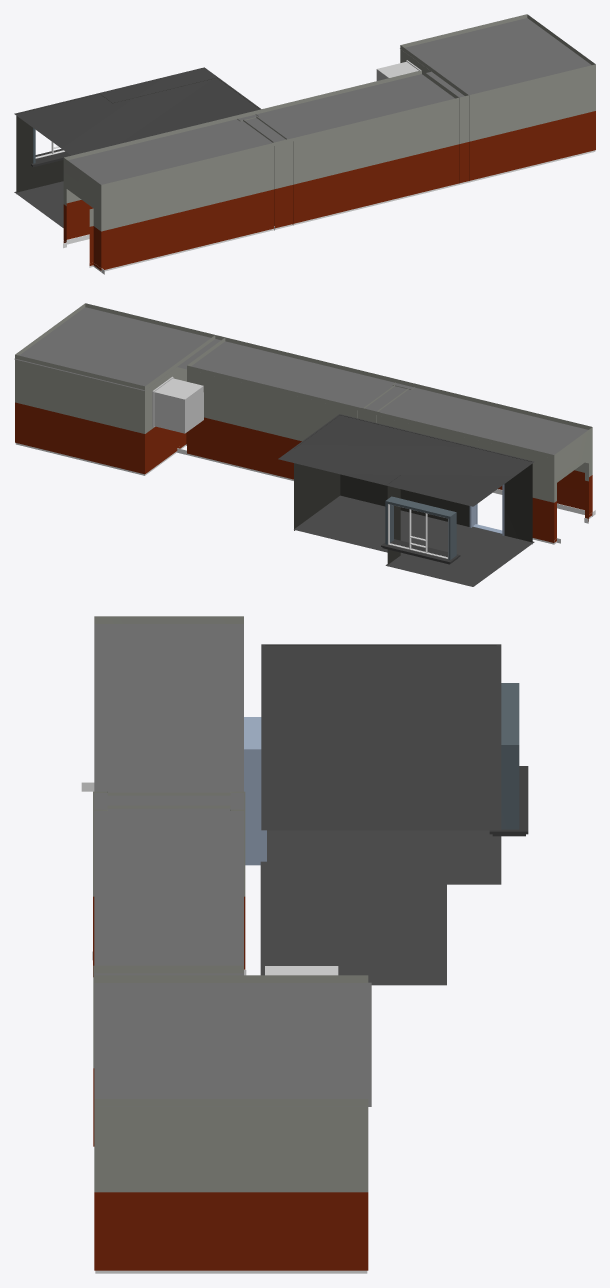
Rendered from SM_H_Building_Tide_Loungehall_03_ATLAS.fbx.
3 views of the same model, one above another, from view 1: azimuth 30°, elevation 25°; view 2: azimuth 150°, elevation 25°; view 3: azimuth 270°, elevation 25° (orthographic). The views are drawn at different scales.
Parts seen in each view (by area): view 1: SM_H_Building_Tide_Loungehall_03_ATLAS; view 2: SM_H_Building_Tide_Loungehall_03_ATLAS; view 3: SM_H_Building_Tide_Loungehall_03_ATLAS.
Boxes of the visible parts, left/top/right/bottom form: SM_H_Building_Tide_Loungehall_03_ATLAS: left=14, top=14, right=595, bottom=274; SM_H_Building_Tide_Loungehall_03_ATLAS: left=14, top=303, right=595, bottom=586; SM_H_Building_Tide_Loungehall_03_ATLAS: left=81, top=616, right=528, bottom=1273.
Size of the model in its own units: 2392 by 927 by 402.
